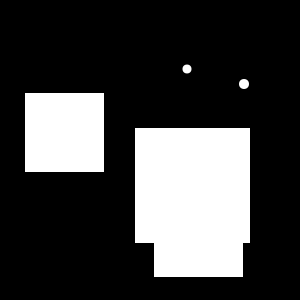circle: (135, 128, 250, 243), (154, 188, 243, 277), (25, 93, 104, 172)
rectangle: (239, 79, 249, 89), (182, 65, 192, 74)
